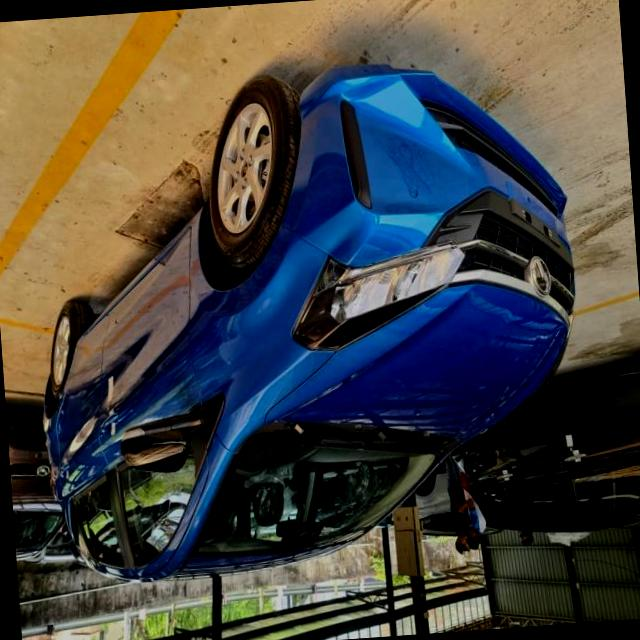PeroduaMyvi: (17, 49, 595, 591)
